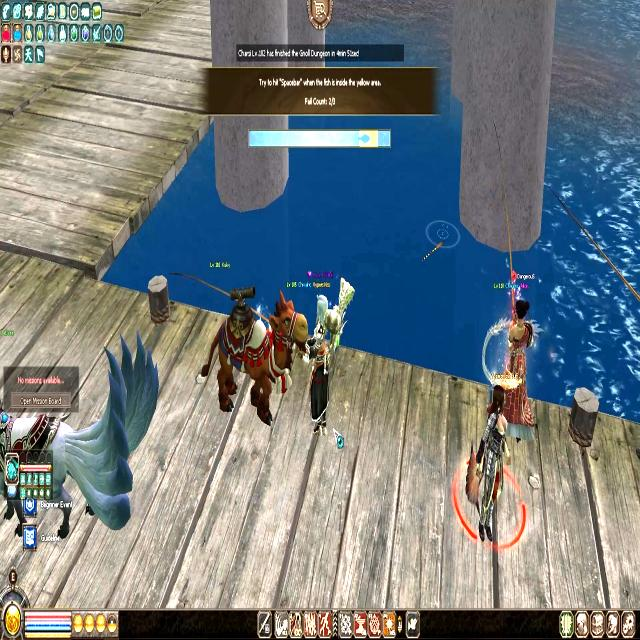fishes: (359, 130, 370, 146)
